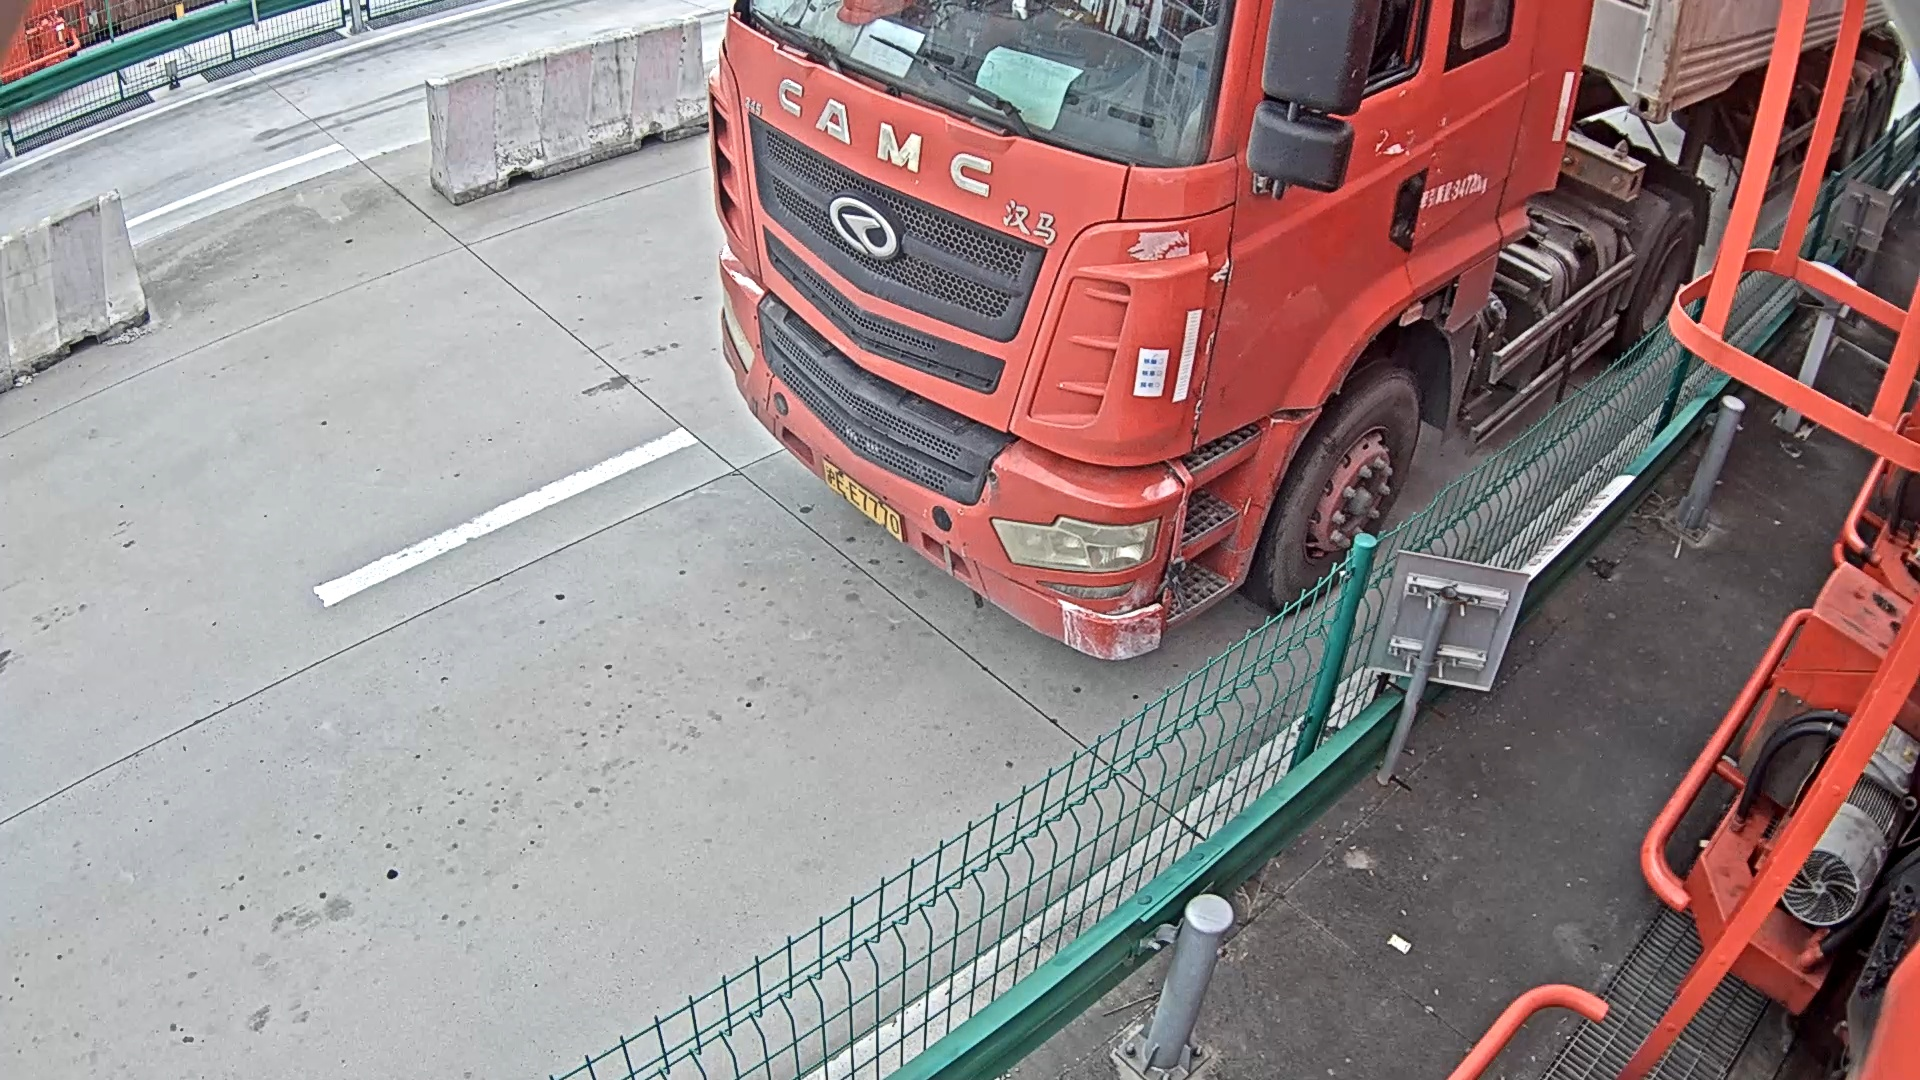head: (712, 2, 1580, 659)
plate: (825, 456, 906, 549)
